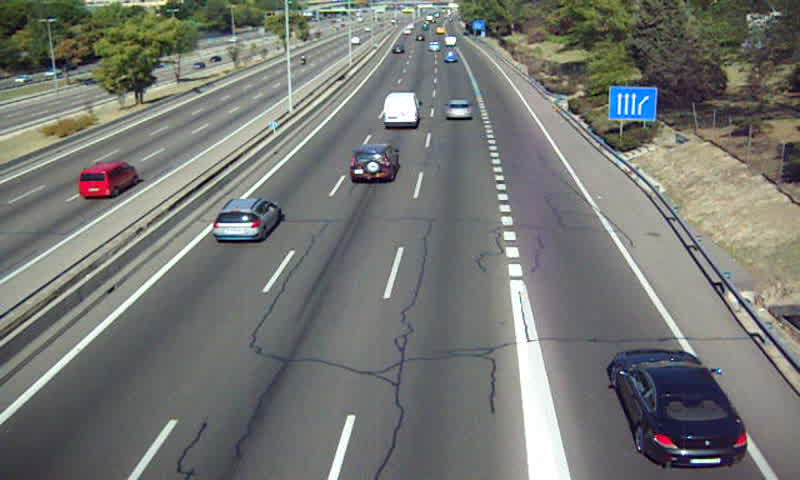car: (610, 347, 747, 466), (214, 198, 281, 242), (350, 145, 399, 182), (444, 99, 472, 121)
van: (383, 93, 423, 128)
